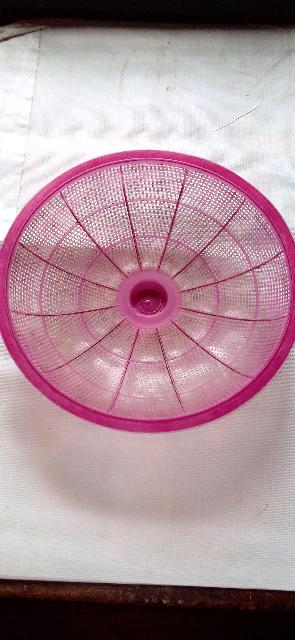hardplastic: (9, 149, 295, 422)
